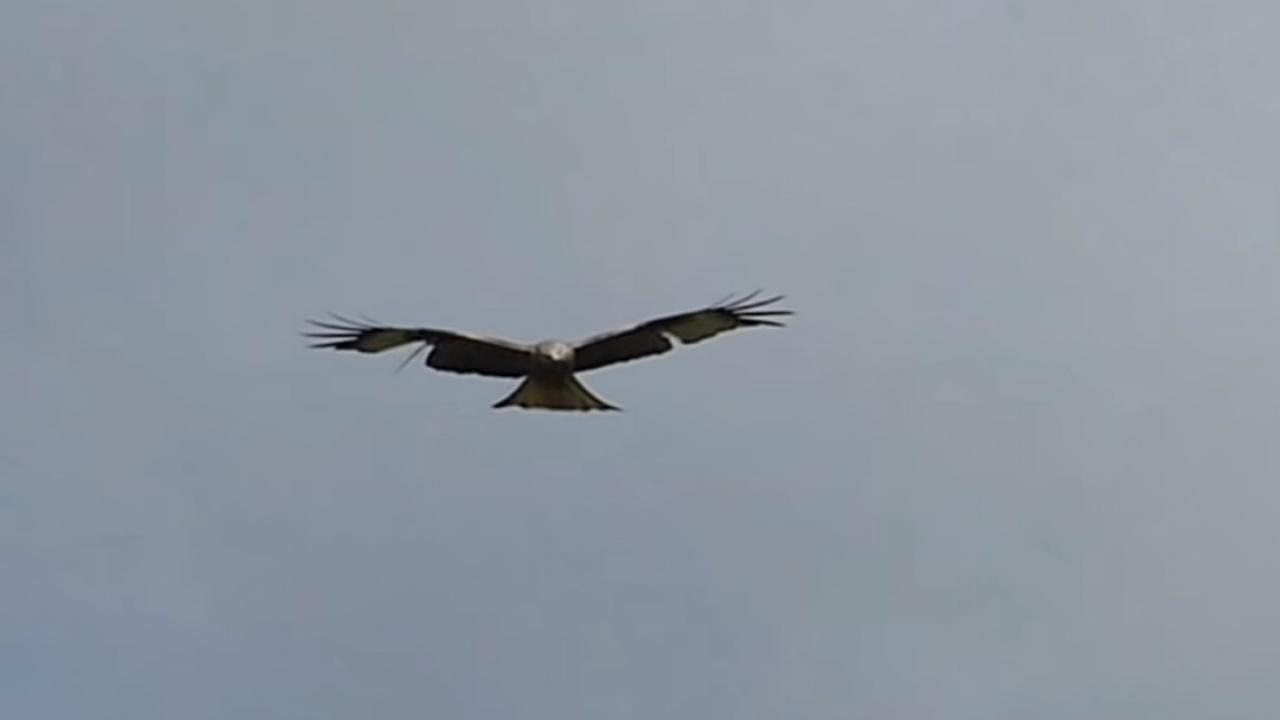Bird: (292, 281, 808, 422)
